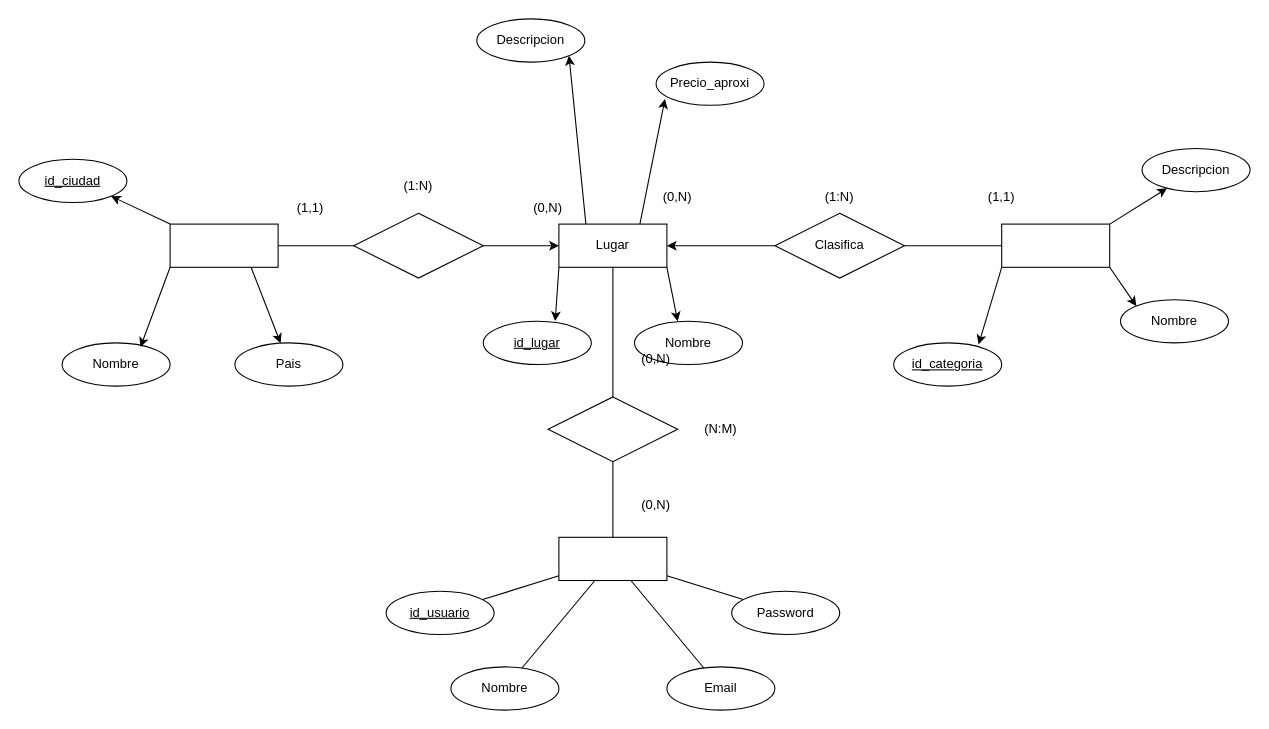
This 1269x729 diagram has some shape labels left out. Here are the shapes that lost their labels. From the top down, the centre of each, then its label:
point (223, 245): Ciudad
point (418, 245): Ubica
point (1055, 245): Categoria
point (612, 429): Guarda
point (612, 558): Usuario
